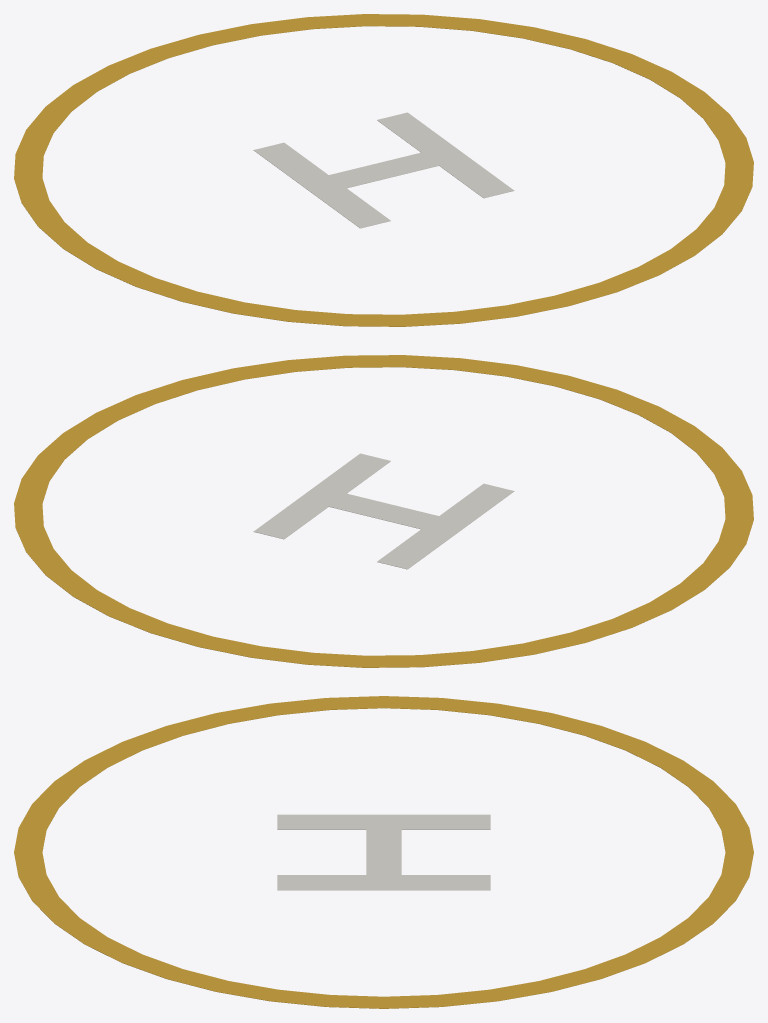
Rendered from prop_heli_pad_marking.glb.
The picture shows the model from 3 angles, top to bottom: view 1: azimuth 30°, elevation 25°; view 2: azimuth 150°, elevation 25°; view 3: azimuth 270°, elevation 25°; orthographic projection.
Parts seen in each view (by area): view 1: Body; view 2: Body; view 3: Body.
Part boxes in pixels (x1,y1,x2,y2): Body: (14,14,753,326); Body: (14,355,753,667); Body: (14,696,753,1008).
Size of the model in its own units: 10.4 by 0.004 by 10.4.
